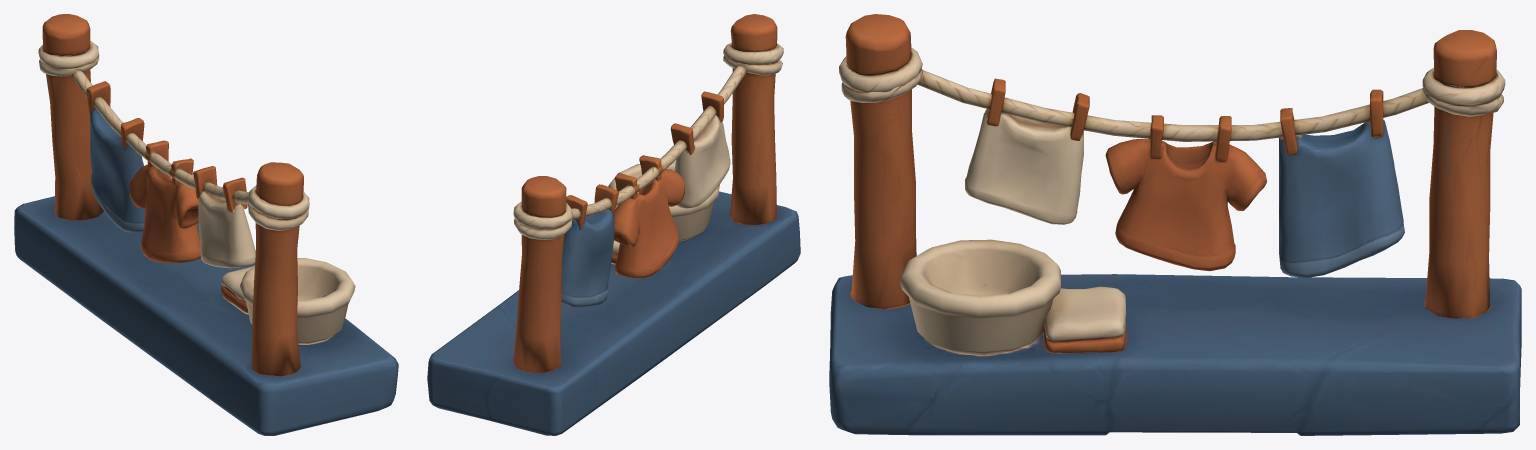
3 renders of one model, left to right at view 1: azimuth 30°, elevation 25°; view 2: azimuth 150°, elevation 25°; view 3: azimuth 270°, elevation 25°, orthographic. The views are drawn at different scales.
Visible parts, largest first — view 1: tripo_node_28d8fddb-ba3a-40fd-b865-c35ac048c99e; view 2: tripo_node_28d8fddb-ba3a-40fd-b865-c35ac048c99e; view 3: tripo_node_28d8fddb-ba3a-40fd-b865-c35ac048c99e.
Part boxes in pixels (x1,y1,x2,y2): tripo_node_28d8fddb-ba3a-40fd-b865-c35ac048c99e: (14, 14, 398, 435); tripo_node_28d8fddb-ba3a-40fd-b865-c35ac048c99e: (427, 14, 800, 435); tripo_node_28d8fddb-ba3a-40fd-b865-c35ac048c99e: (829, 14, 1521, 435).
Bounding box in the file's own units: 0.3262 × 0.5488 × 0.998.
1 material, 1 textured.
